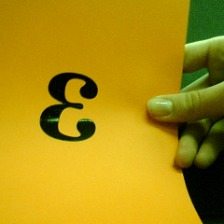orange3: (38, 70, 102, 145)
